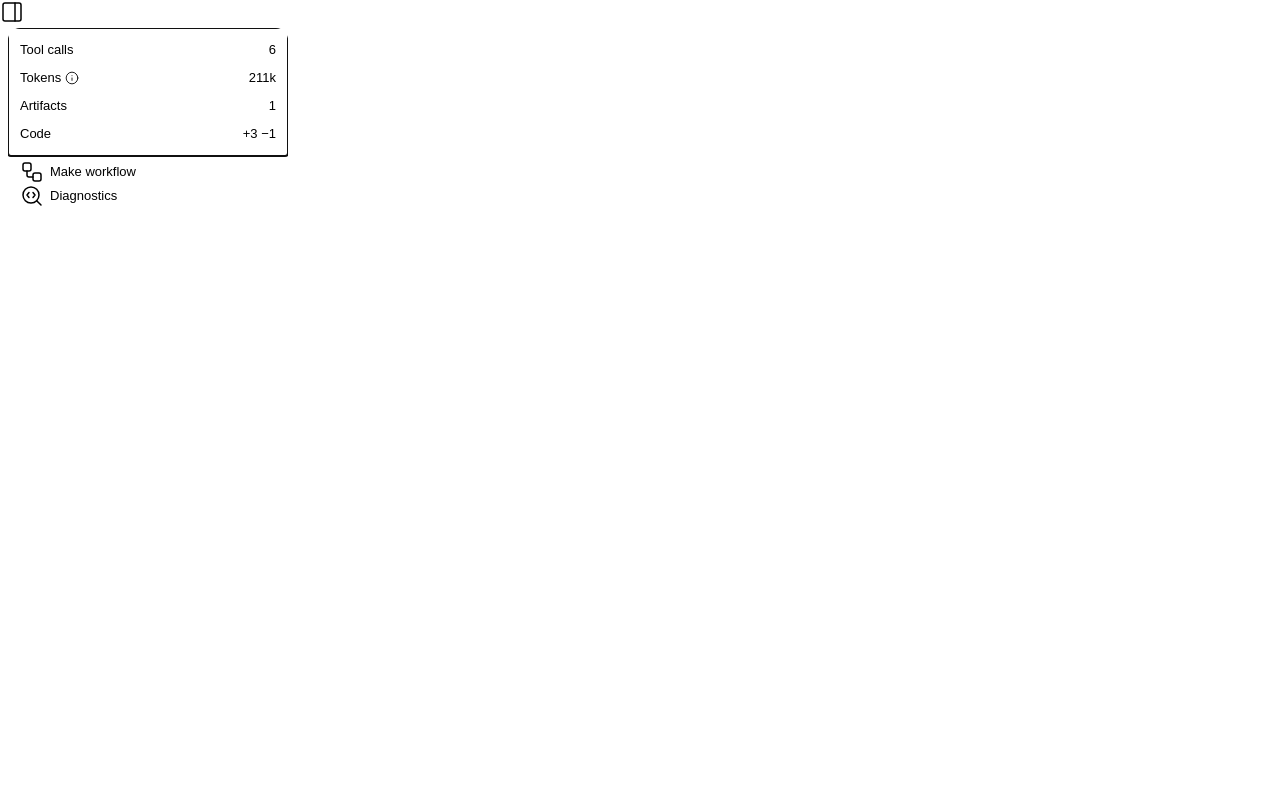
Test: the summary button where the rail does not fit › closes on a second press instead of dismissing and reopening
The width and height of the screenshot is (1280, 800).
Check: the dialog is shown, box [8,28,288,212]
Step 1. Click the button named "Chat summary" → click(12, 12), box [0,0,24,24]
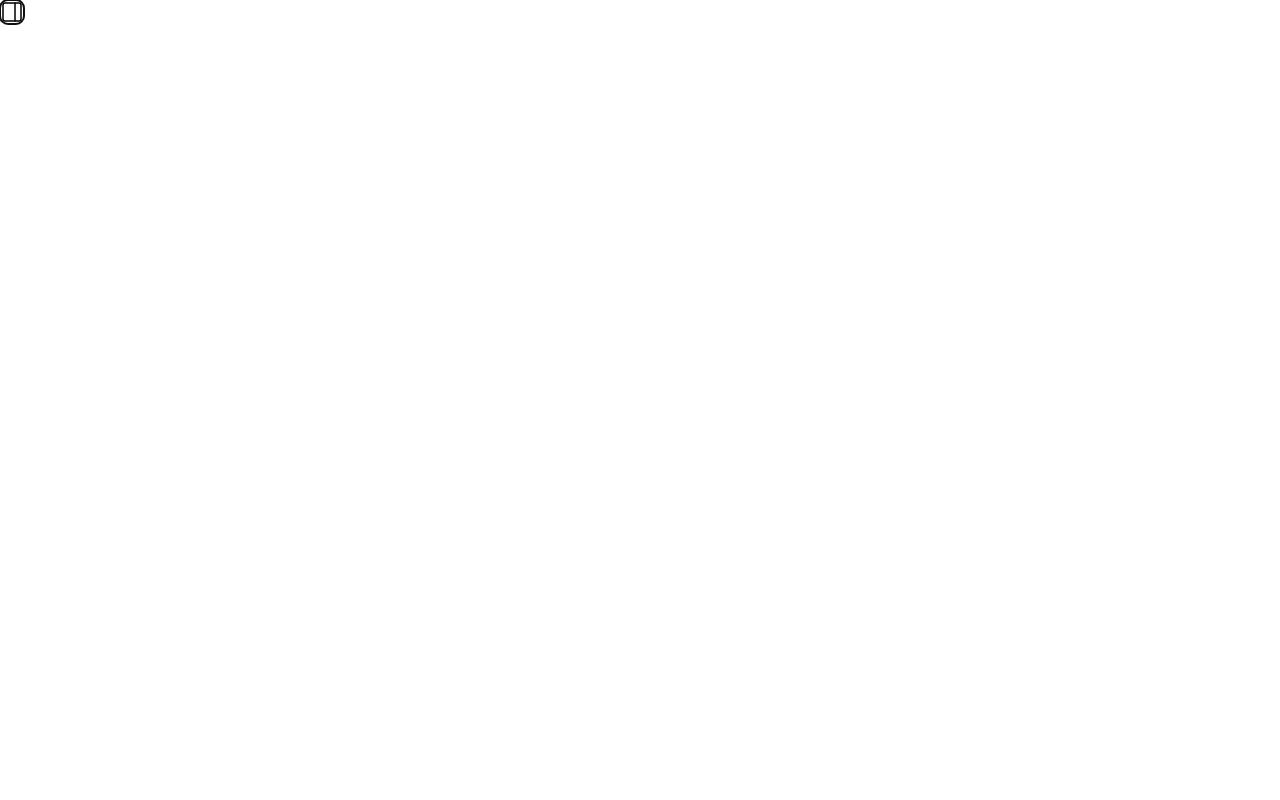
Check: the dialog is gone
Check: the button named "Chat summary" is collapsed, box [0,0,24,24]
